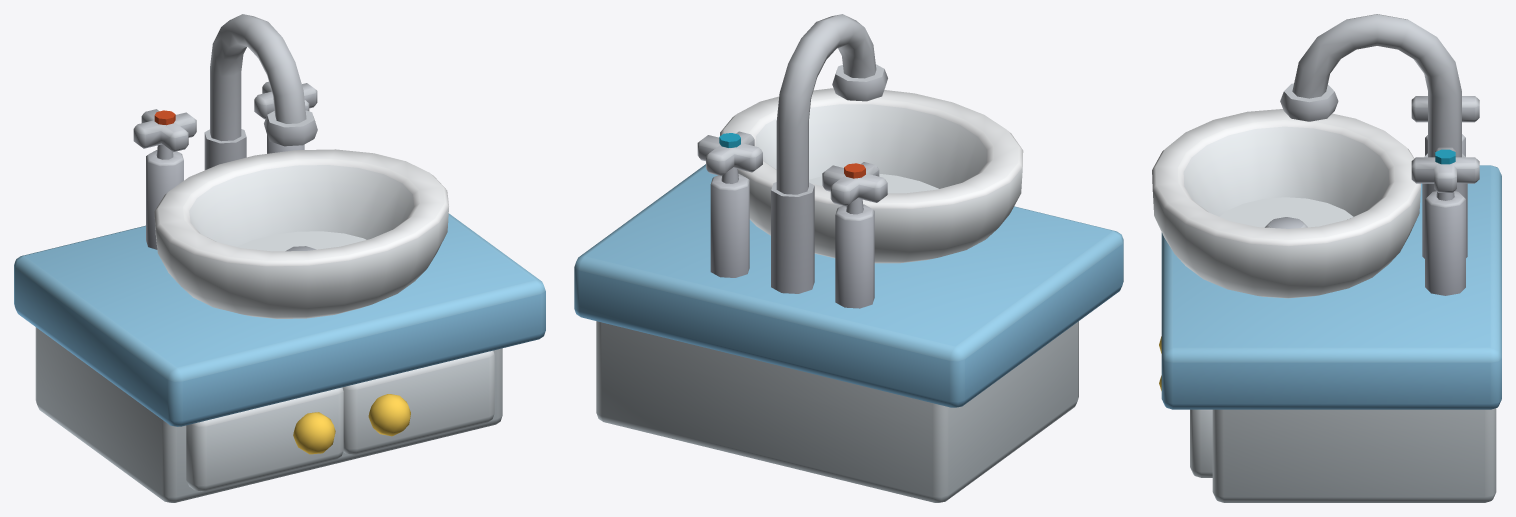
The model's file is Cabinet Bathroom.glb.
3 renders of one model, left to right at view 1: azimuth 30°, elevation 25°; view 2: azimuth 150°, elevation 25°; view 3: azimuth 270°, elevation 25°, orthographic. The views are drawn at different scales.
Visible parts, largest first — view 1: cabinet_bathroom; view 2: cabinet_bathroom; view 3: cabinet_bathroom.
Part boxes in pixels (left/top/right/bottom): cabinet_bathroom: left=14, top=14, right=545, bottom=502; cabinet_bathroom: left=574, top=14, right=1123, bottom=502; cabinet_bathroom: left=1152, top=14, right=1501, bottom=502.
Size of the model in its own units: 2 by 1.98 by 1.54.
1 material, 1 textured.
